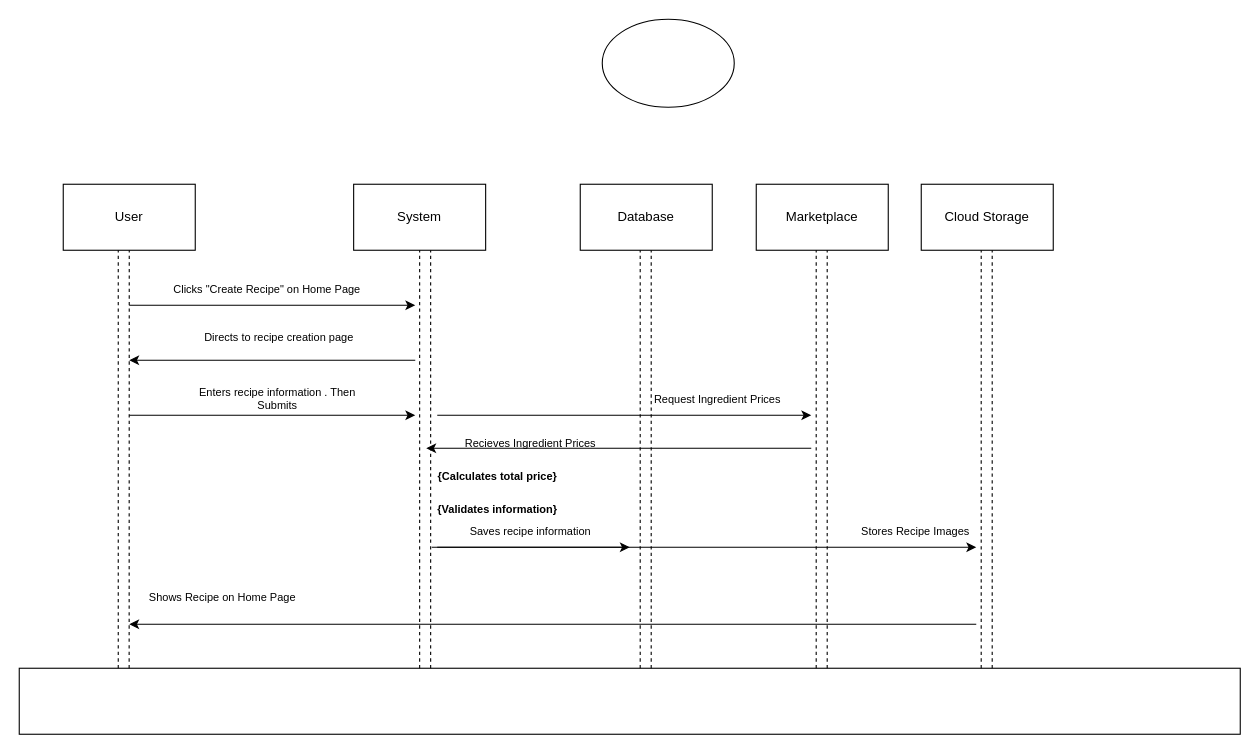
This 1260x754 diagram has some shape labels left out. Each missing label, with the box of its shape:
Create Recipe: (601, 18, 734, 107)
End: (18, 667, 1240, 734)
